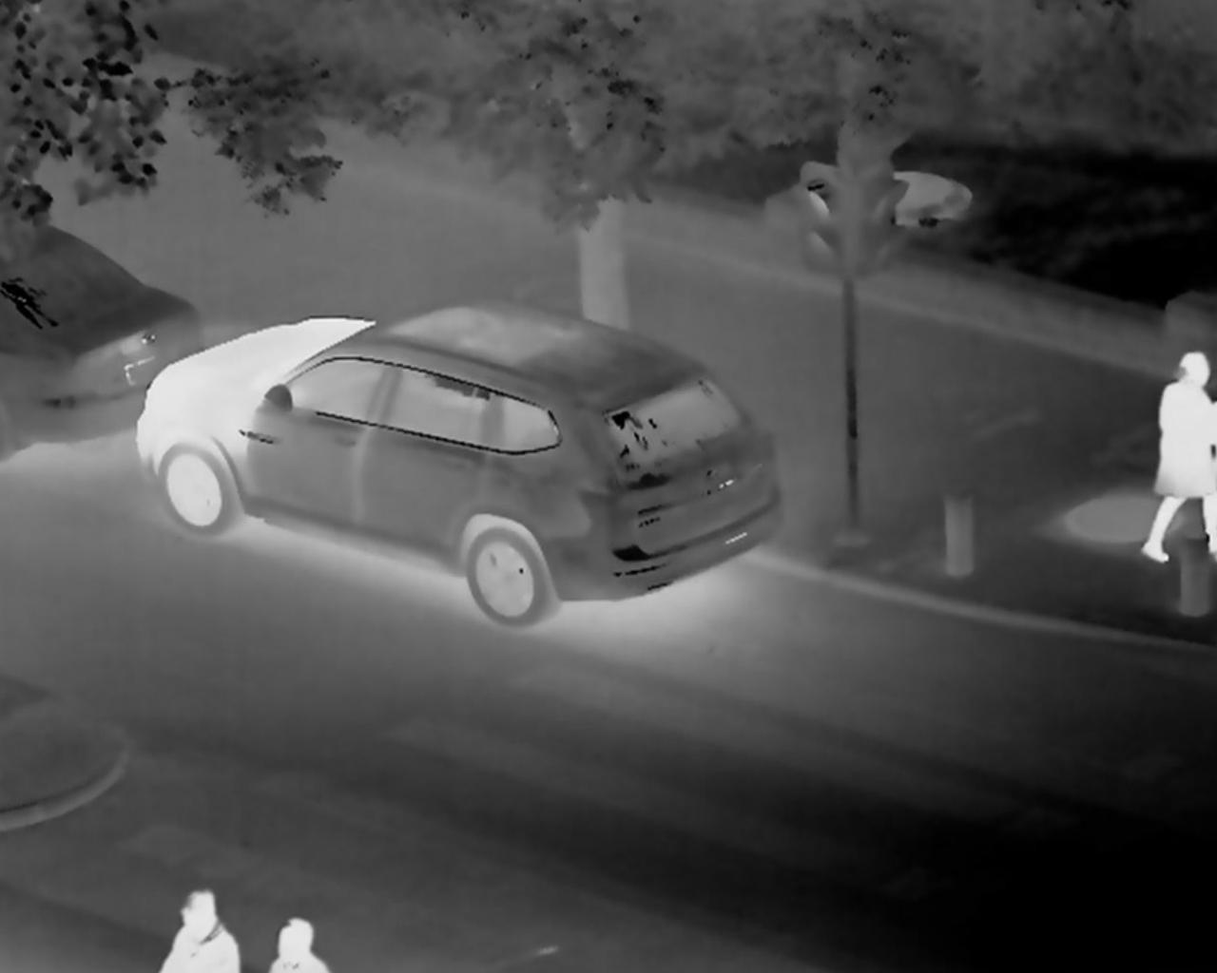person: (1149, 336, 1217, 505), (168, 887, 240, 973), (254, 920, 310, 973)
